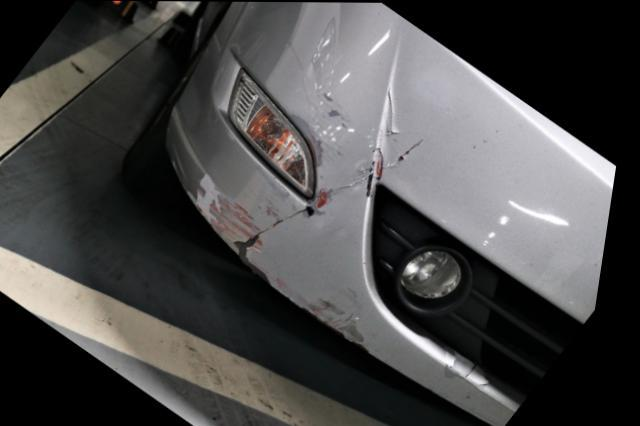crack: (246, 170, 378, 286)
scratch: (176, 153, 289, 257), (293, 84, 359, 168), (313, 287, 377, 348)
